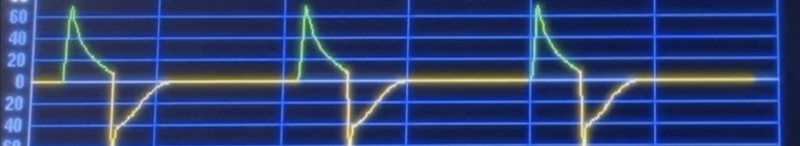normal_flow: (50, 3, 644, 146)
